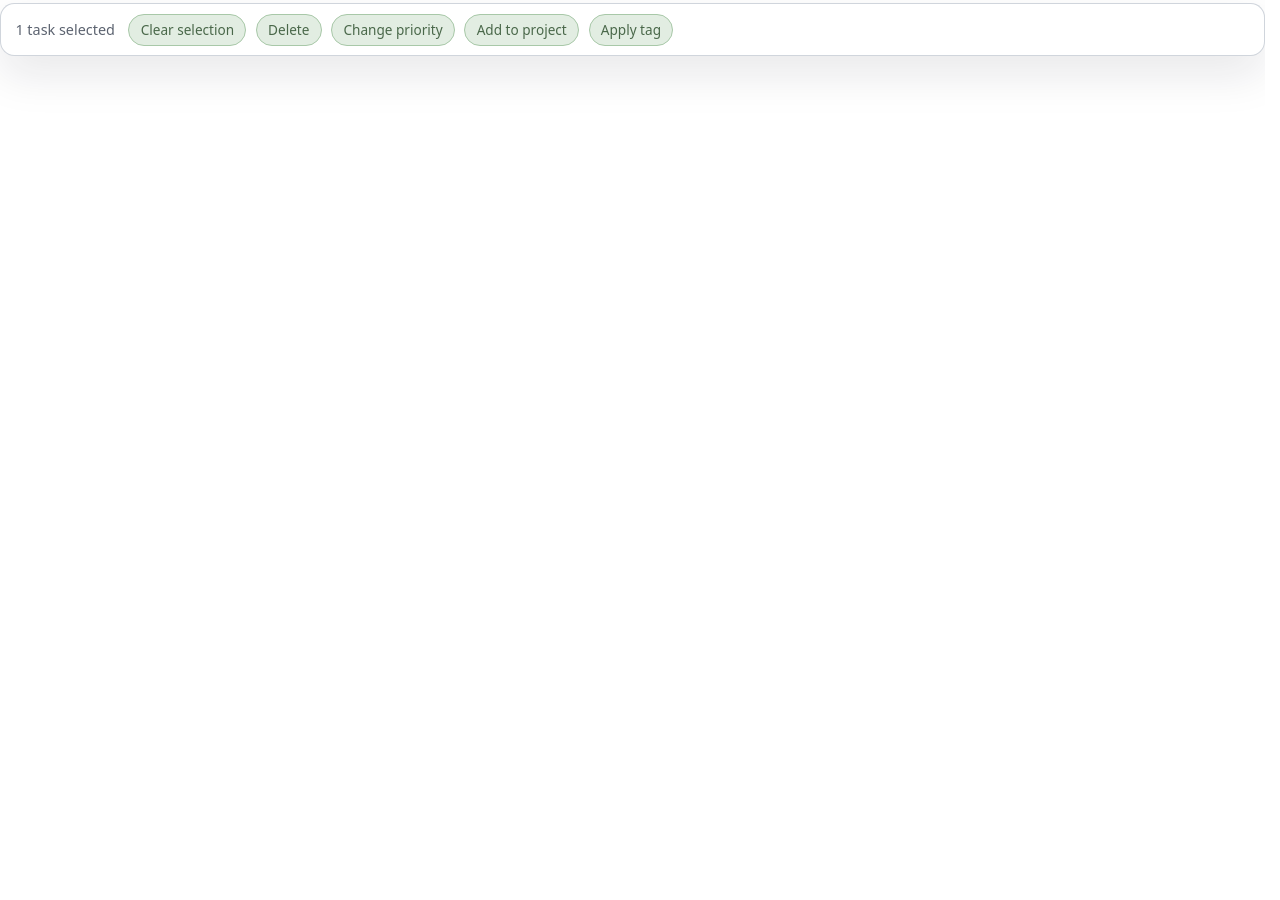
Test: BulkActionBar smoke test › closes an open modal on Escape
The image size is (1280, 900).
Step 1. Click the button "Change priority" → click(393, 30), box top-left (331, 14), bottom-right (455, 46)
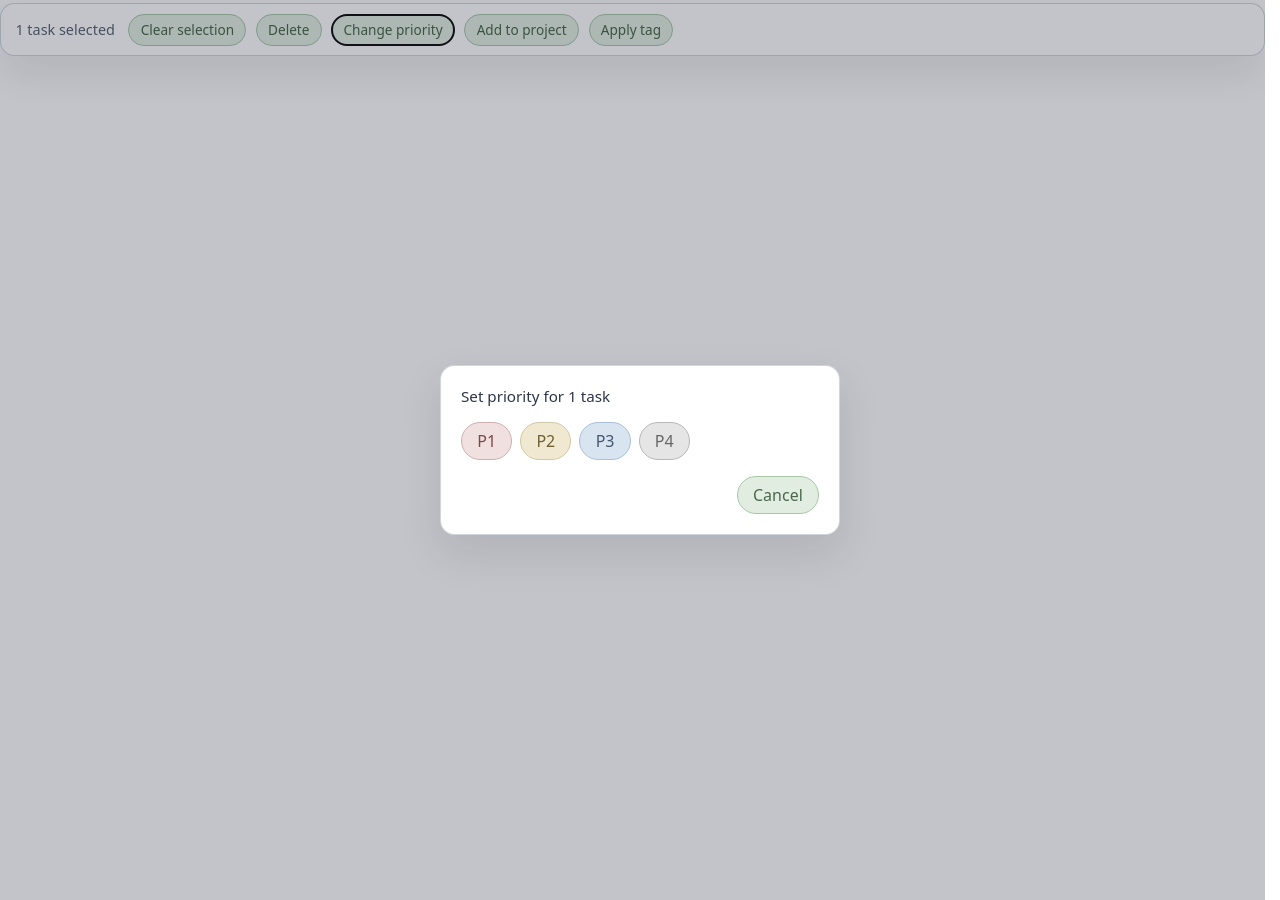
Expected: the dialog named "Change priority" is shown, top-left (440, 365), bottom-right (840, 535)
Step 2. Press Escape
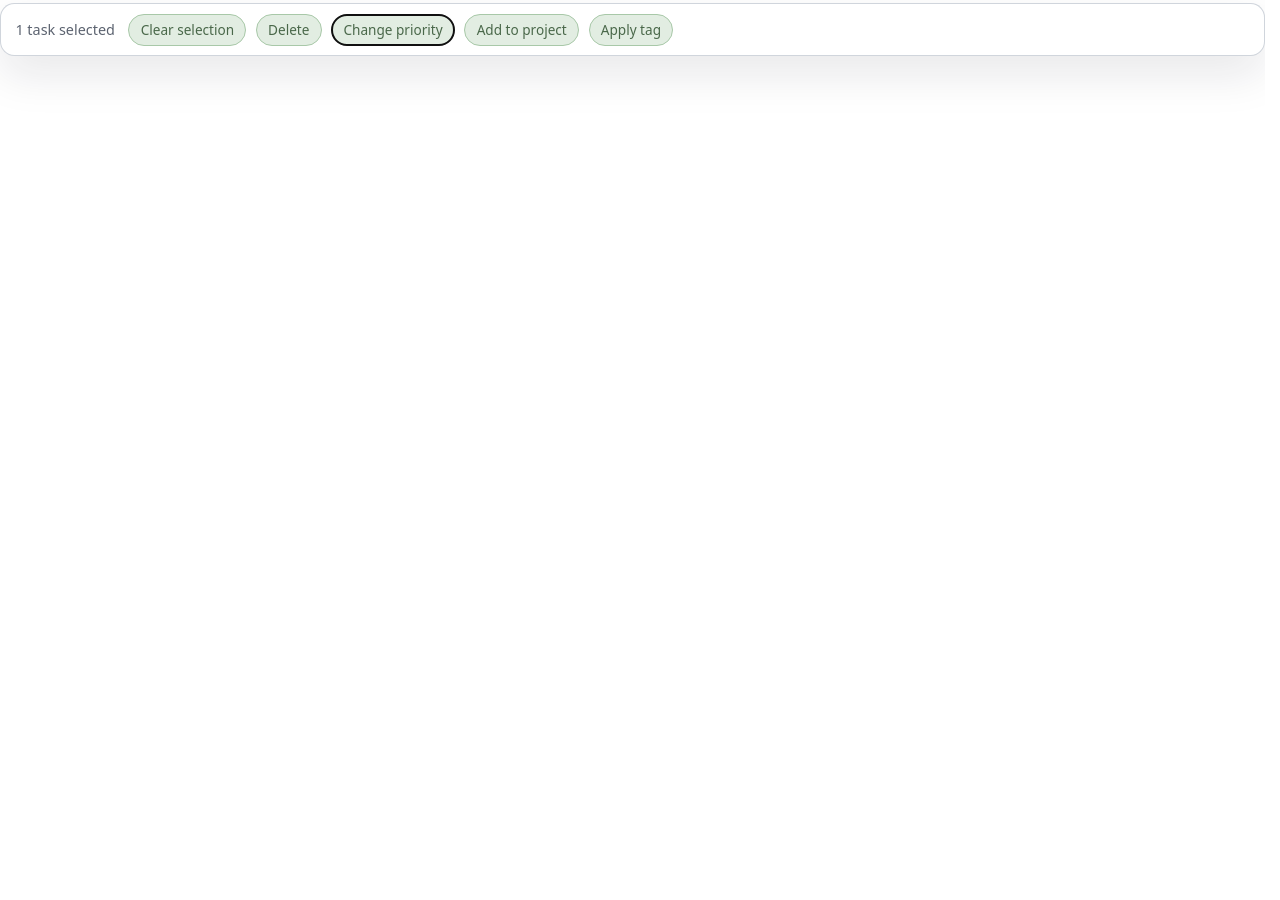
Expected: the dialog is gone
